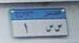1: (23, 22, 29, 34)
seen: (55, 24, 62, 32), (46, 26, 53, 32)
